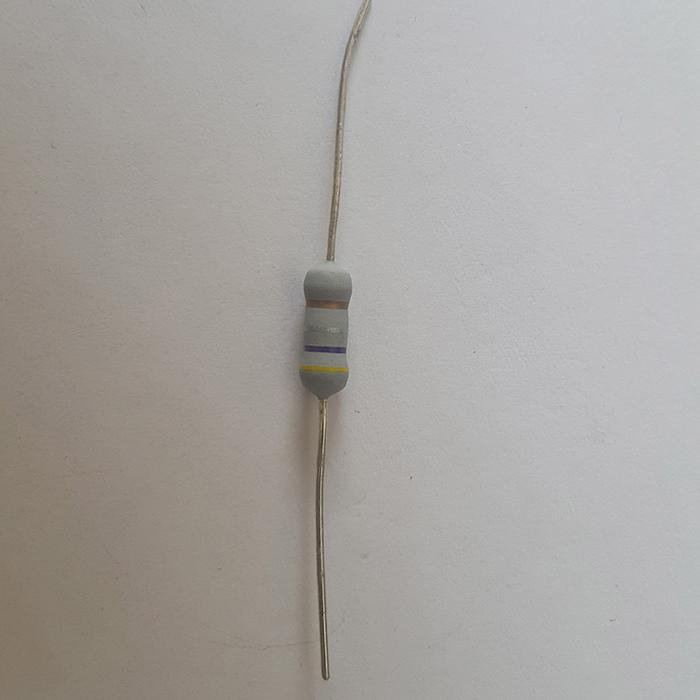resistor: (299, 262, 351, 400)
